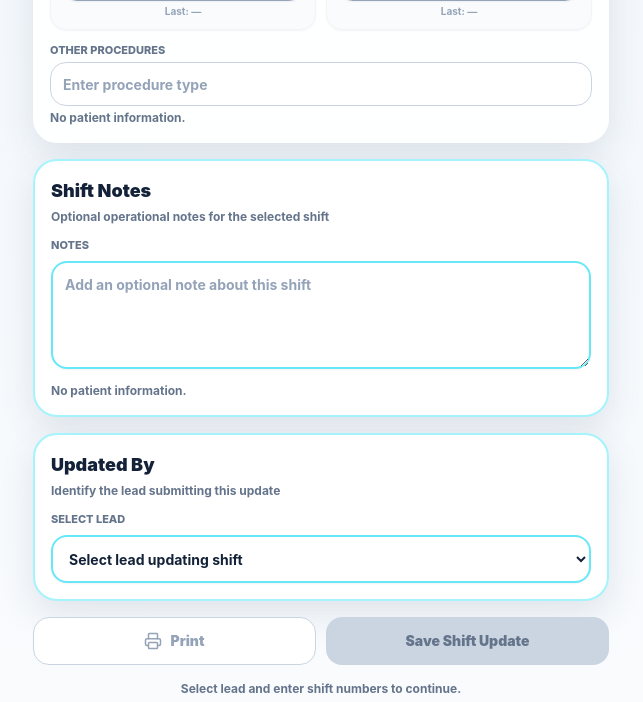
Scenario: ShiftUpdateClient submission flow › hides and clears the custom updater when a listed lead is selected again
The image size is (643, 702).
(page scrolled)
Select "Not Listed" in the dropdown labelled "Select Lead" at point(321, 559), box [51,535,591,583]
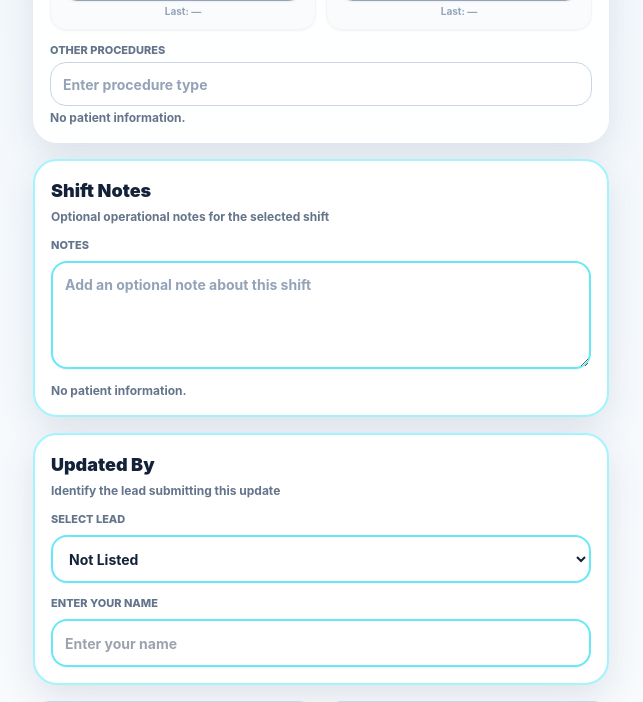
Type "Relief Lead" into the field labelled "Enter your name" at point(321, 643), box [51,619,591,667]
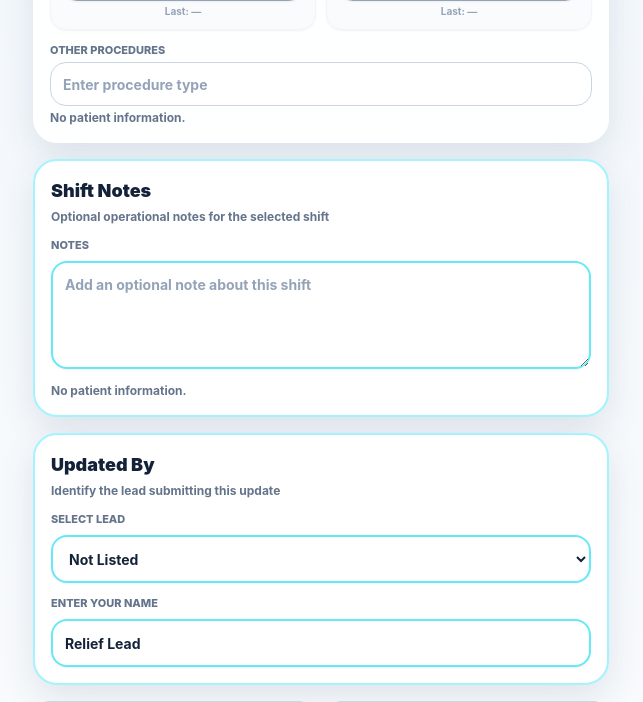
Select "Lead RT" in the dropdown labelled "Select Lead" at point(321, 559), box [51,535,591,583]
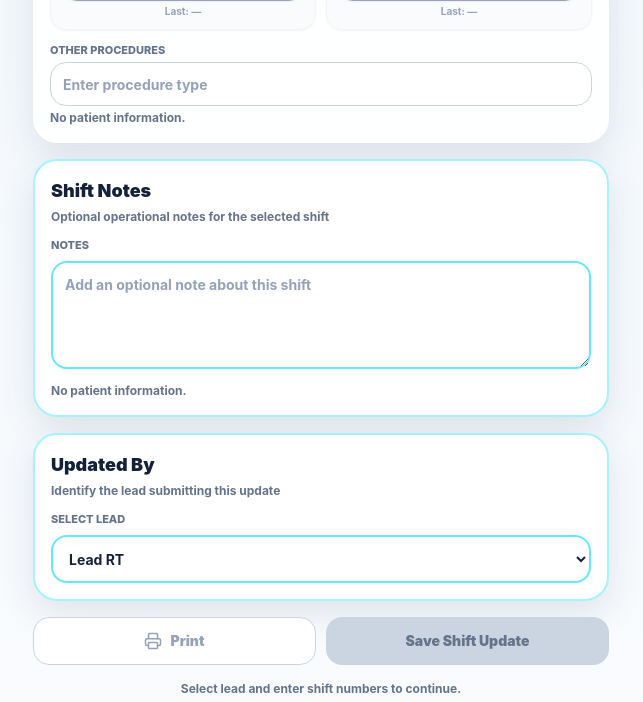
Expected: the text labelled "Enter your name" is gone
